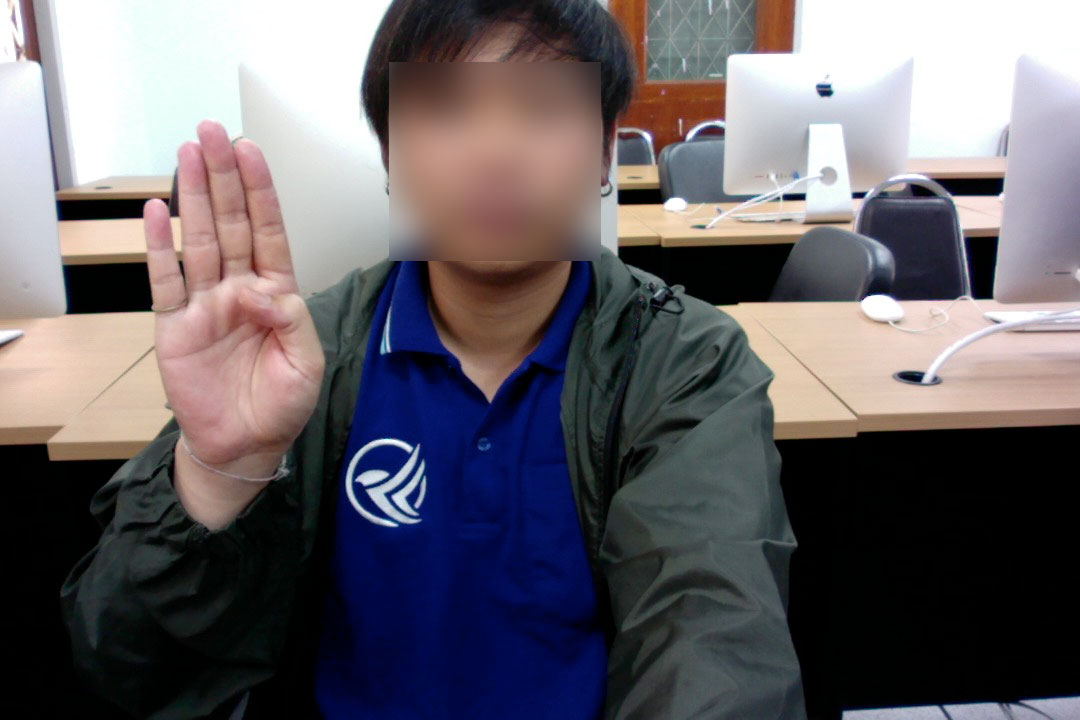bor: (129, 106, 334, 499)
